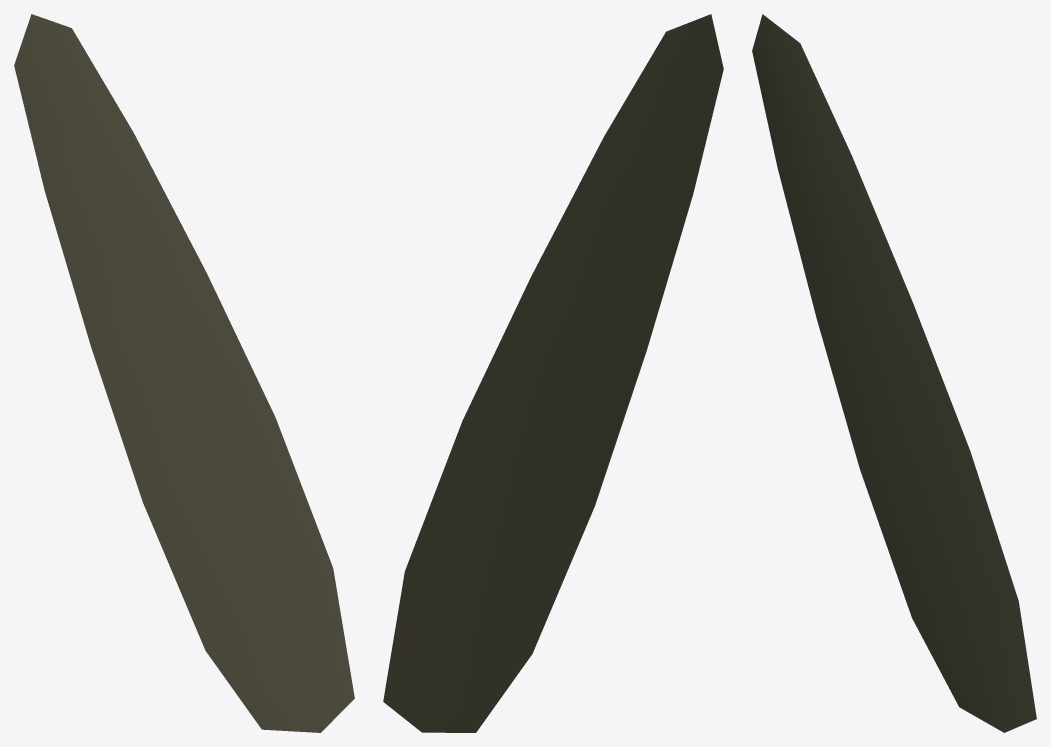
File: finch_feather_flight_primary_010.obj
3 renders of one model, left to right at view 1: azimuth 30°, elevation 25°; view 2: azimuth 150°, elevation 25°; view 3: azimuth 330°, elevation 25°, orthographic. The views are drawn at different scales.
Parts seen in each view (by area): view 1: feather_flight_primary_010; view 2: feather_flight_primary_010; view 3: feather_flight_primary_010.
Boxes of the visible parts, x1,y1,x2,y2 form: feather_flight_primary_010: (14,14,354,732); feather_flight_primary_010: (383,14,723,732); feather_flight_primary_010: (752,14,1036,732).
Size of the model in its own units: 0.0202 by 0.0448 by 0.000251.
